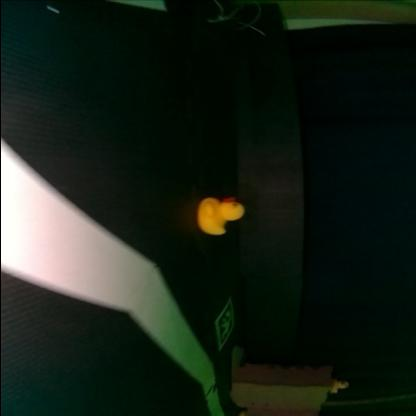Duckie: (198, 198, 245, 236), (328, 380, 350, 394)
QR code: (215, 300, 234, 350)
